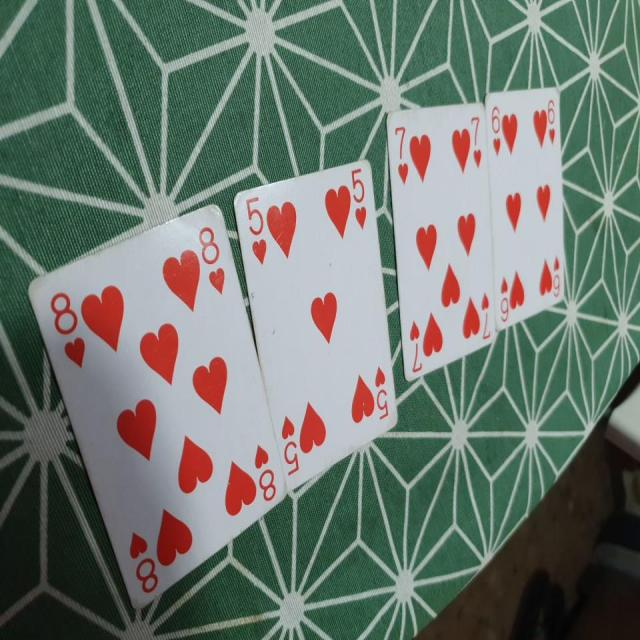5 Hearts: (220, 156, 401, 497)
6 Hearts: (483, 79, 574, 332)
7 Hearts: (380, 93, 495, 380)
8 Hearts: (24, 197, 301, 614)
